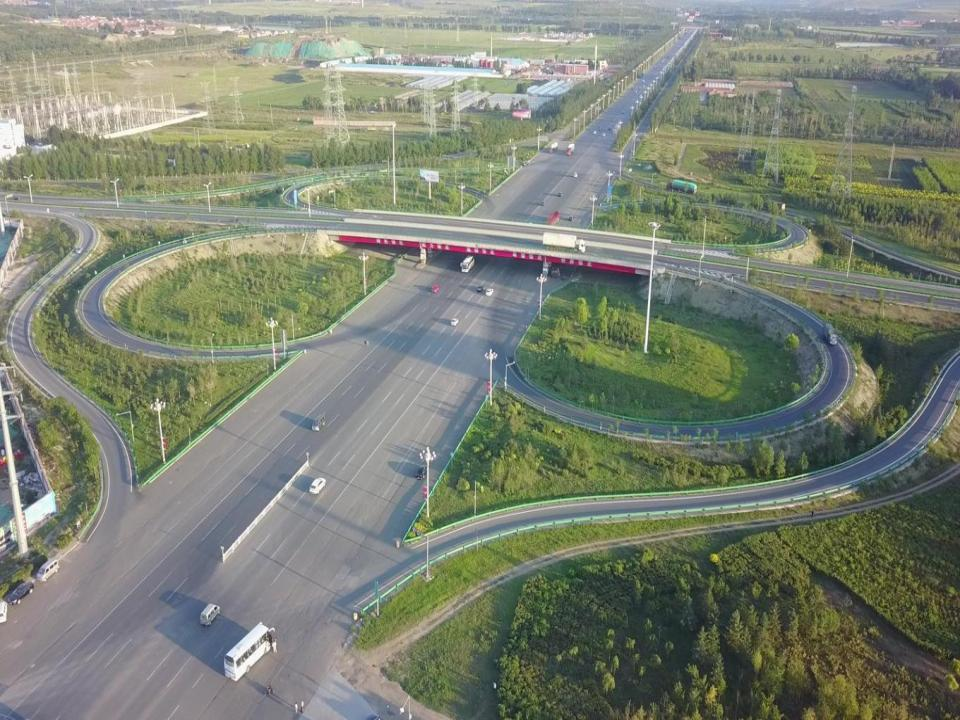bus: (224, 620, 272, 680), (460, 255, 476, 272)
car: (8, 582, 34, 603), (200, 602, 221, 627), (38, 560, 60, 582), (309, 477, 326, 494), (312, 414, 325, 431), (0, 601, 7, 625), (415, 465, 427, 479), (430, 284, 440, 293), (477, 284, 485, 294), (450, 317, 458, 326), (486, 288, 494, 296), (568, 216, 574, 222), (558, 191, 562, 198), (541, 200, 545, 205), (601, 132, 605, 136), (598, 126, 601, 131), (593, 130, 596, 134), (574, 172, 577, 176), (608, 126, 610, 130)
truck: (665, 178, 697, 195), (823, 320, 838, 345), (550, 262, 562, 278), (548, 142, 558, 154), (566, 143, 574, 153)
